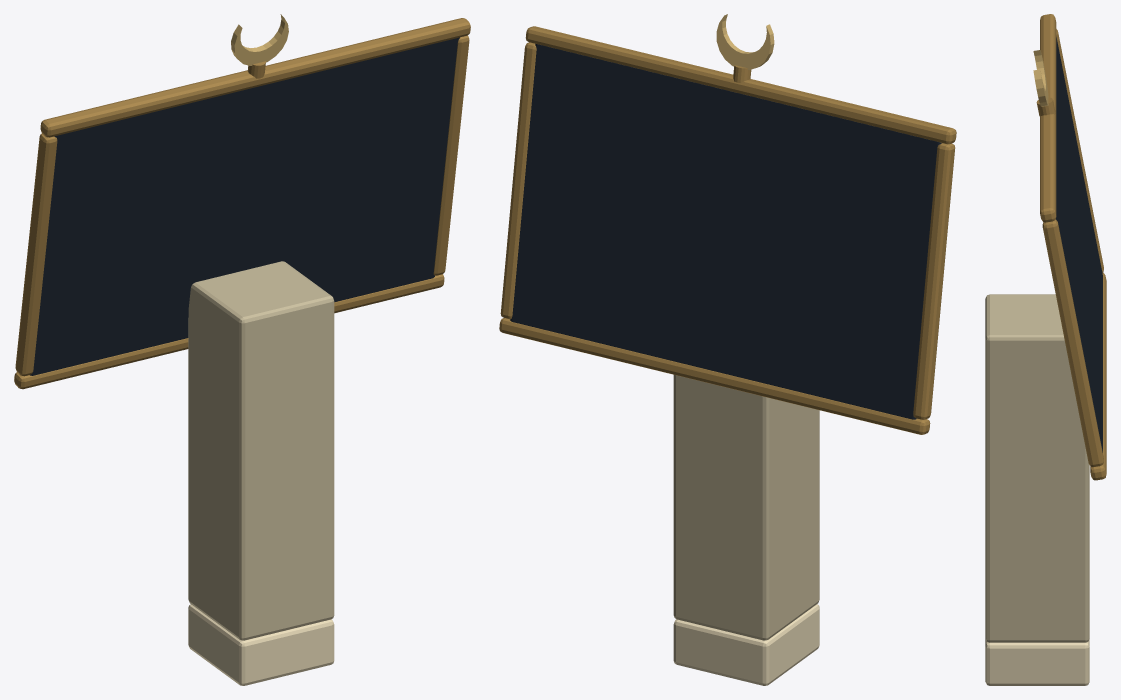
The model's file is hint-post-v01.glb.
3 views of the same model, side by side, from view 1: azimuth 30°, elevation 25°; view 2: azimuth 150°, elevation 25°; view 3: azimuth 270°, elevation 25° (orthographic). The views are drawn at different scales.
Visible parts, largest first — view 1: Shadow slate 2, Shadow sandstone 1, Shadow brass 3, Shadow sandstone light 0, Shadow gold 4; view 2: Shadow slate 2, Shadow sandstone 1, Shadow brass 3, Shadow sandstone light 0, Shadow gold 4; view 3: Shadow sandstone 1, Shadow brass 3, Shadow slate 2, Shadow sandstone light 0, Shadow gold 4.
Boxes of the visible parts, x1=… form: Shadow slate 2: x1=30, y1=37, x2=459, y2=375; Shadow sandstone 1: x1=188, y1=261, x2=334, y2=640; Shadow brass 3: x1=14, y1=18, x2=470, y2=389; Shadow sandstone light 0: x1=188, y1=604, x2=334, y2=685; Shadow gold 4: x1=231, y1=14, x2=288, y2=65; Shadow slate 2: x1=510, y1=44, x2=941, y2=419; Shadow sandstone 1: x1=673, y1=375, x2=819, y2=640; Shadow brass 3: x1=499, y1=26, x2=956, y2=434; Shadow sandstone light 0: x1=673, y1=604, x2=819, y2=685; Shadow gold 4: x1=716, y1=14, x2=774, y2=69; Shadow sandstone 1: x1=985, y1=294, x2=1089, y2=642; Shadow brass 3: x1=1036, y1=14, x2=1106, y2=480; Shadow slate 2: x1=1056, y1=37, x2=1102, y2=452; Shadow sandstone light 0: x1=985, y1=639, x2=1089, y2=685; Shadow gold 4: x1=1033, y1=50, x2=1048, y2=106.
Size of the model in its own units: 1.57 by 2.24 by 0.4066.
